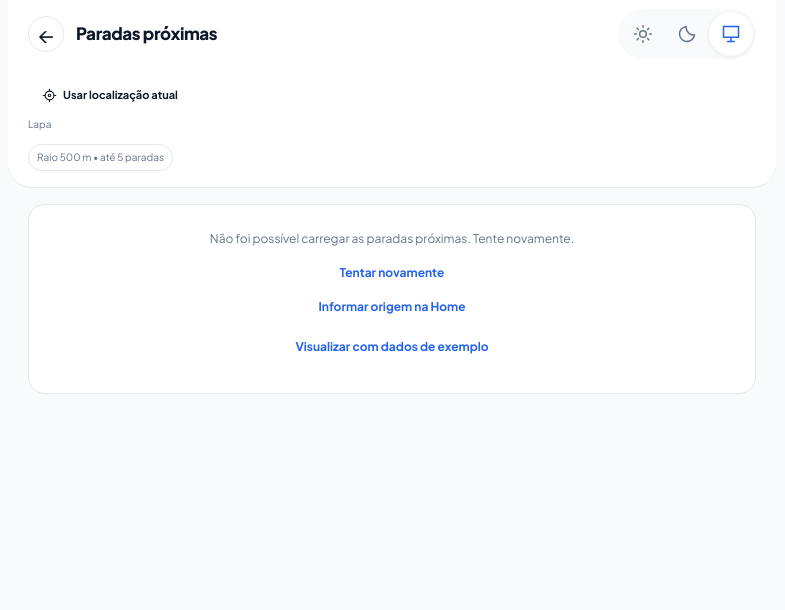
Scenario: Nearby stops screen › shows failures and supports a real retry without substituting sample data
This screenshot has width=785, height=610.
Expected: the message shows "Não foi possível carregar", [210,231,574,246]
Click the button "Tentar novamente" at (392, 273), box [340,257,444,289]
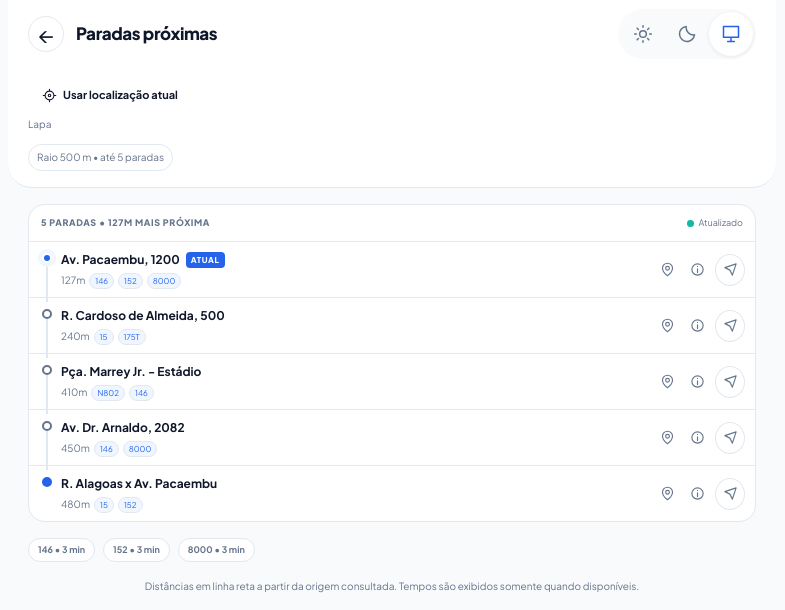
Now the number of list items is 5, box [29,241,755,297]; [29,297,755,353]; [29,353,755,409]; [29,409,755,465]; [29,465,755,521]
